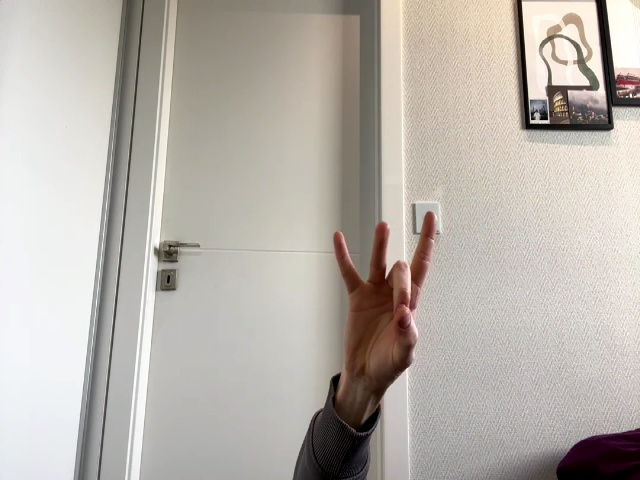G: (333, 212, 437, 381)
